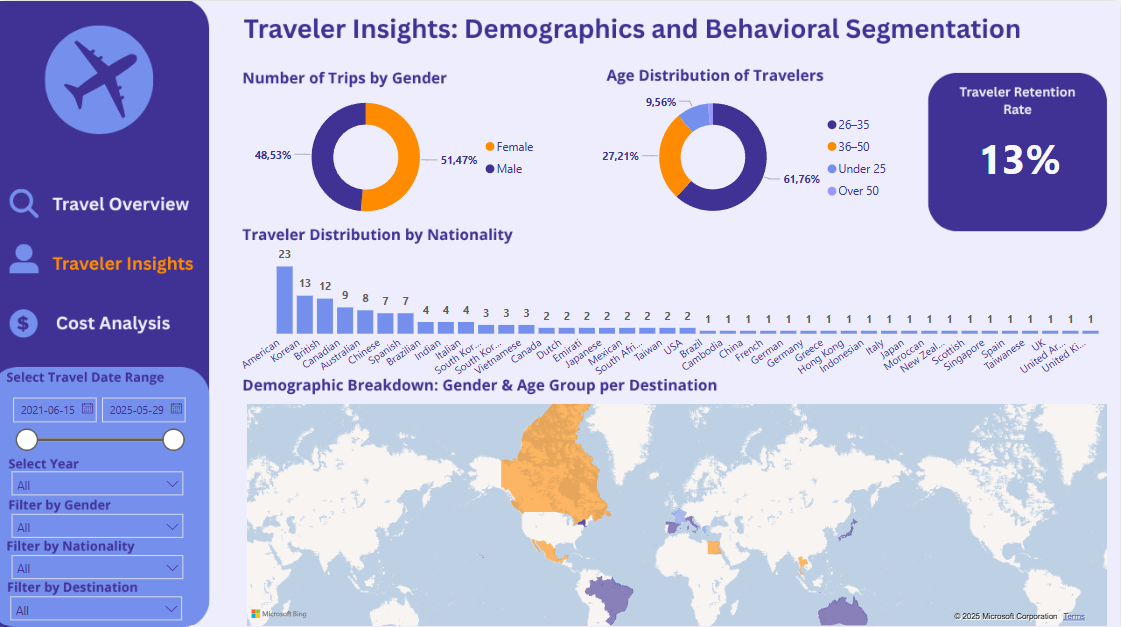

This screenshot's page, from the dashboard's own definition file:
{"tool":"powerbi","page":{"name":"Traveler Insights","canvas":[1280,720],"ordinal":2},"visuals":[{"type":"donutChart","fields":{"Category":["Travel details dataset.Traveler Gender"],"Y":["CountNonNull(Travel details dataset.Trip ID)"]},"box":[277.1,91.4,402.9,174.3],"z":0},{"type":"donutChart","fields":{"Category":["Travel details dataset.Traveler Age Group"],"Y":["CountNonNull(Travel details dataset.Trip ID)"]},"box":[680,91.4,415.7,174.3],"z":1000},{"type":"columnChart","fields":{"Category":["Travel details dataset.Traveler Nationality"],"Y":["CountNonNull(Travel details dataset.Trip ID)"]},"box":[267.1,265.7,1002.9,175.7],"z":2000},{"type":"filledMap","fields":{"Category":["Travel details dataset.Destination"],"Series":["Travel details dataset.Traveler Age Group"]},"box":[277.1,455.7,992.9,264.3],"z":3000},{"type":"actionButton","title":"Travel Insights","box":[6.9,268.5,230,65.4],"z":4000},{"type":"actionButton","title":"Travel Insights","box":[6.9,335.4,230,66.2],"z":5000},{"type":"actionButton","title":"Travel Insights","box":[6.9,201.5,230,64.6],"z":6000},{"type":"card","fields":{"Values":["Travel details dataset.Traveler Retention Rate %"]},"box":[1085.7,118.6,184.3,120],"z":7000},{"type":"slicer","fields":{"Values":["DateTable.Date"]},"box":[1.4,448.6,207.1,78.6],"z":10000},{"type":"slicer","fields":{"Values":["Travel details dataset.Destination"]},"box":[2.9,675.7,205.7,44.3],"z":11000},{"type":"slicer","fields":{"Values":["Travel details dataset.Traveler Nationality"]},"box":[2.9,628.6,205.7,34.3],"z":12000},{"type":"slicer","fields":{"Values":["Travel details dataset.Traveler Gender"]},"box":[2.9,582,205.7,35.7],"z":14000},{"type":"slicer","fields":{"Values":["DateTable.Year"]},"box":[2.3,533,205.7,34.3],"z":15000}]}

Visuals, with their boxes in screenshot pixels (x1, y1, x2, y2), scaled from the page's 1280x720 canvas onto the 1121x627 screenshot:
donutChart - Travel details dataset.Traveler Gender x CountNonNull(Travel details dataset.Trip ID): (left=243, top=80, right=596, bottom=231)
donutChart - Travel details dataset.Traveler Age Group x CountNonNull(Travel details dataset.Trip ID): (left=596, top=80, right=960, bottom=231)
columnChart - Travel details dataset.Traveler Nationality x CountNonNull(Travel details dataset.Trip ID): (left=234, top=231, right=1112, bottom=384)
filledMap - Travel details dataset.Destination x Travel details dataset.Traveler Age Group: (left=243, top=397, right=1112, bottom=626)
"Travel Insights" actionButton: (left=6, top=234, right=207, bottom=291)
"Travel Insights" actionButton: (left=6, top=292, right=207, bottom=350)
"Travel Insights" actionButton: (left=6, top=175, right=207, bottom=232)
card - Travel details dataset.Traveler Retention Rate %: (left=951, top=103, right=1112, bottom=208)
slicer - DateTable.Date: (left=1, top=391, right=183, bottom=459)
slicer - Travel details dataset.Destination: (left=3, top=588, right=183, bottom=626)
slicer - Travel details dataset.Traveler Nationality: (left=3, top=547, right=183, bottom=577)
slicer - Travel details dataset.Traveler Gender: (left=3, top=507, right=183, bottom=538)
slicer - DateTable.Year: (left=2, top=464, right=182, bottom=494)
